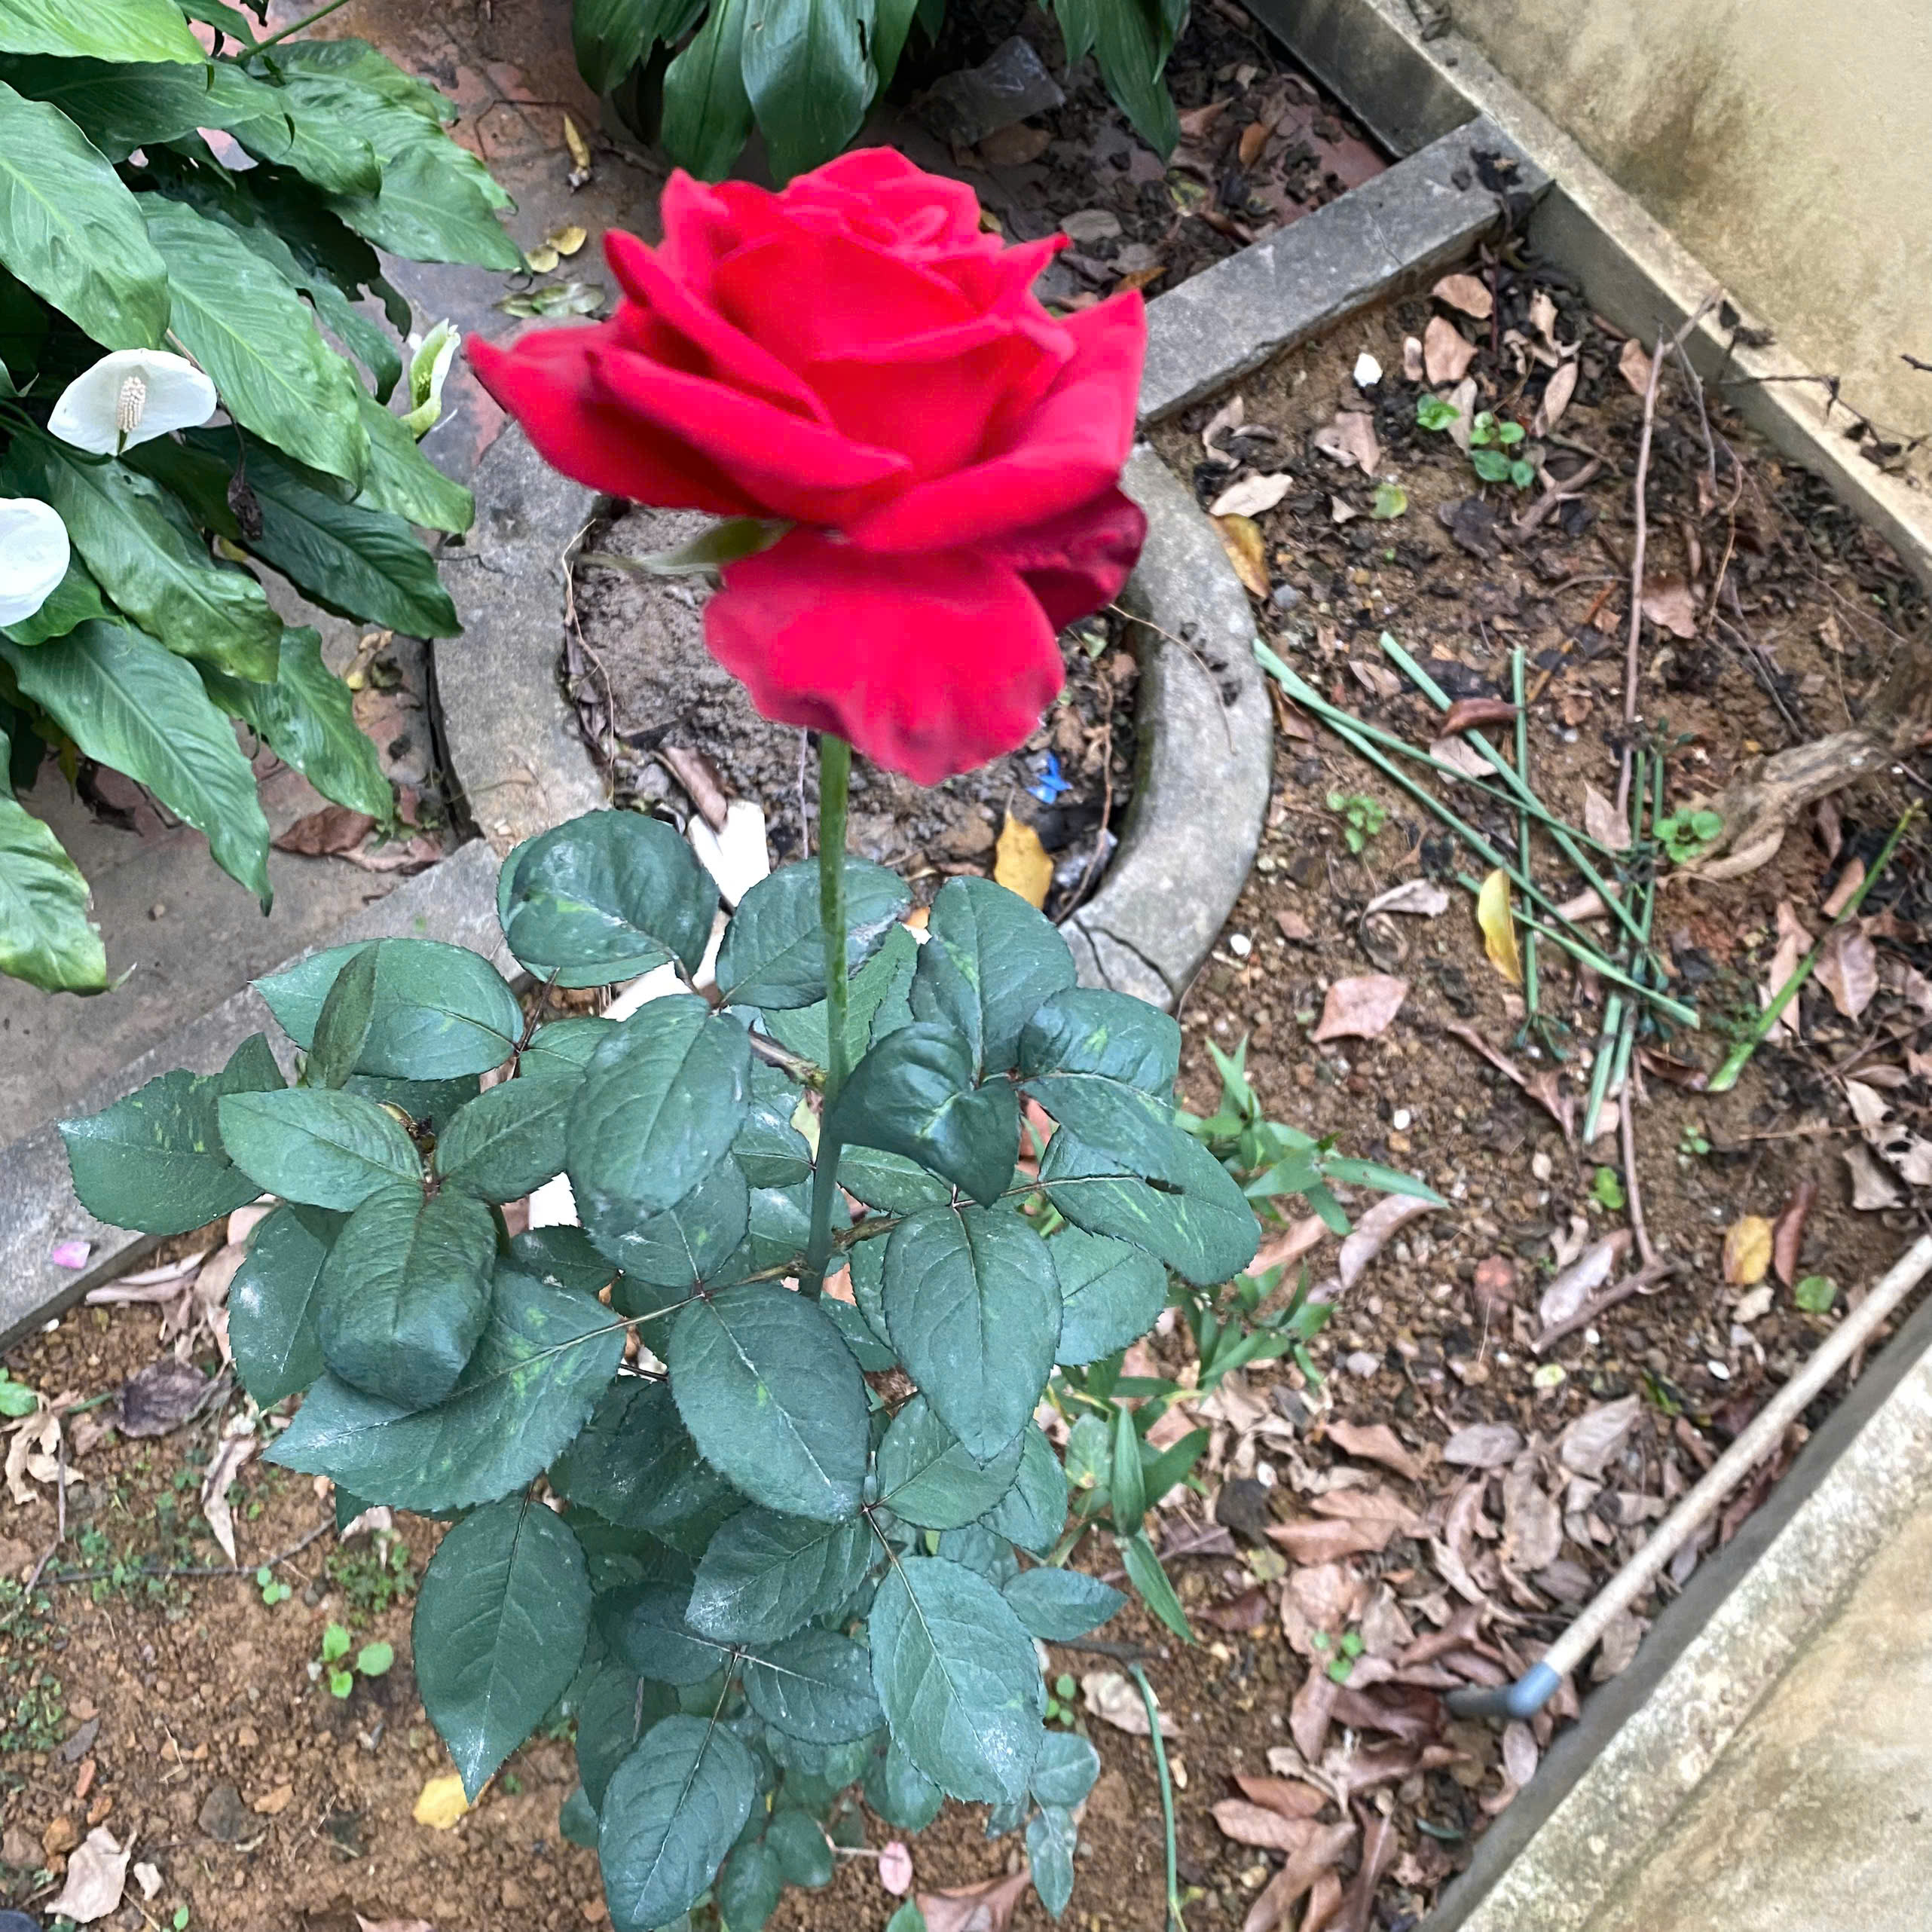hoa_hong_do: (336, 214, 1343, 1902)
